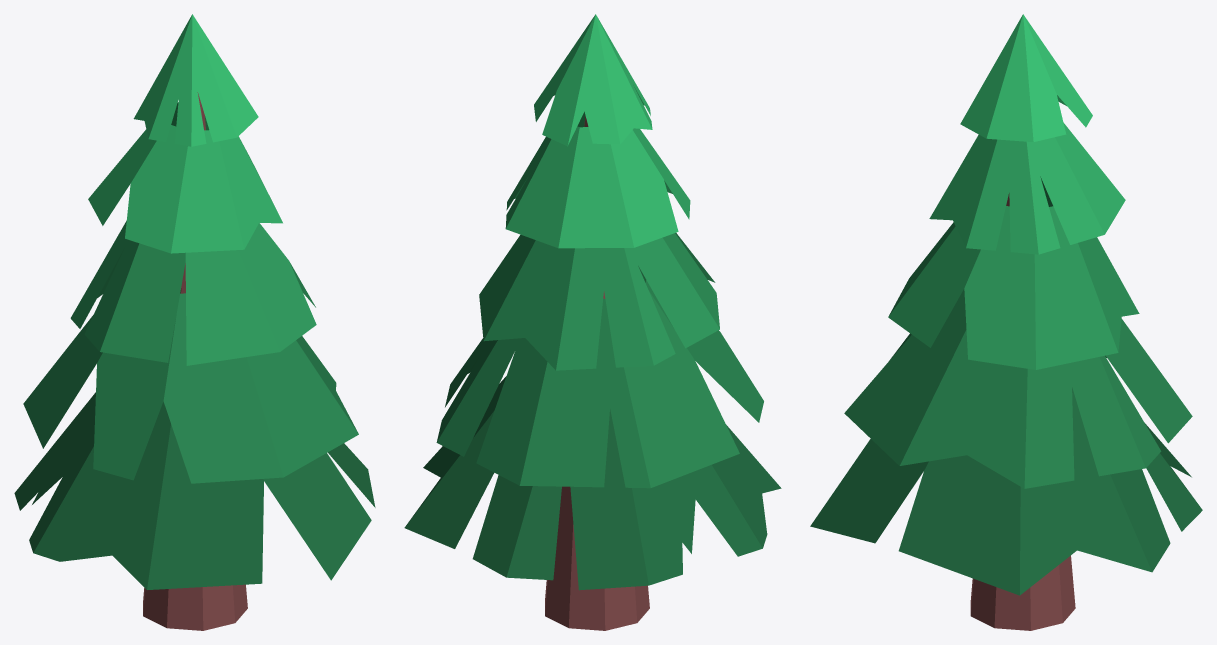
The model's file is tree2.glb.
3 views of the same model, side by side, from view 1: azimuth 30°, elevation 25°; view 2: azimuth 150°, elevation 25°; view 3: azimuth 270°, elevation 25° (orthographic).
Parts seen in each view (by area): view 1: Circle, Circle.001, Circle.002, Circle.003, Circle.004, Cylinder.005; view 2: Circle.001, Circle, Circle.002, Circle.003, Circle.004, Cylinder.005; view 3: Circle.001, Circle, Circle.002, Circle.003, Circle.004, Cylinder.005.
Part boxes in pixels (bbox=[...]): Circle: bbox=[14, 392, 375, 589]; Circle.001: bbox=[23, 293, 358, 483]; Circle.002: bbox=[70, 221, 316, 365]; Circle.003: bbox=[88, 102, 282, 253]; Circle.004: bbox=[133, 14, 258, 146]; Cylinder.005: bbox=[143, 92, 247, 630]; Circle.001: bbox=[436, 266, 763, 488]; Circle: bbox=[404, 376, 781, 590]; Circle.002: bbox=[479, 233, 719, 370]; Circle.003: bbox=[505, 111, 690, 248]; Circle.004: bbox=[534, 14, 652, 146]; Cylinder.005: bbox=[545, 115, 649, 630]; Circle.001: bbox=[844, 289, 1192, 488]; Circle: bbox=[810, 387, 1202, 595]; Circle.002: bbox=[888, 176, 1139, 369]; Circle.003: bbox=[929, 122, 1125, 254]; Circle.004: bbox=[960, 14, 1092, 142]; Cylinder.005: bbox=[970, 193, 1075, 630].
Size of the model in its own units: 2.8 by 4.71 by 2.82.
